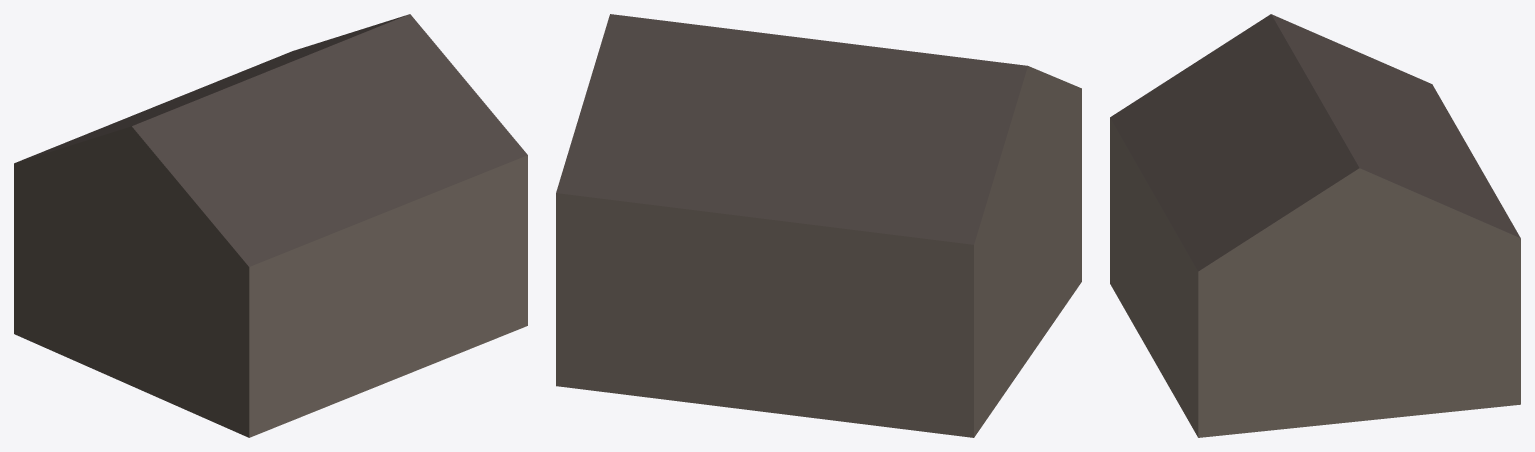
3 renders of one model, left to right at view 1: azimuth 30°, elevation 25°; view 2: azimuth 150°, elevation 25°; view 3: azimuth 270°, elevation 25°, orthographic. The views are drawn at different scales.
Parts seen in each view (by area): view 1: HP-w1367350988; view 2: HP-w1367350988; view 3: HP-w1367350988.
Part boxes in pixels (left/top/right/bottom): HP-w1367350988: left=14, top=14, right=527, bottom=437; HP-w1367350988: left=556, top=14, right=1081, bottom=437; HP-w1367350988: left=1110, top=14, right=1520, bottom=437.
Size of the model in its own units: 14.49 by 9.13 by 13.43.
